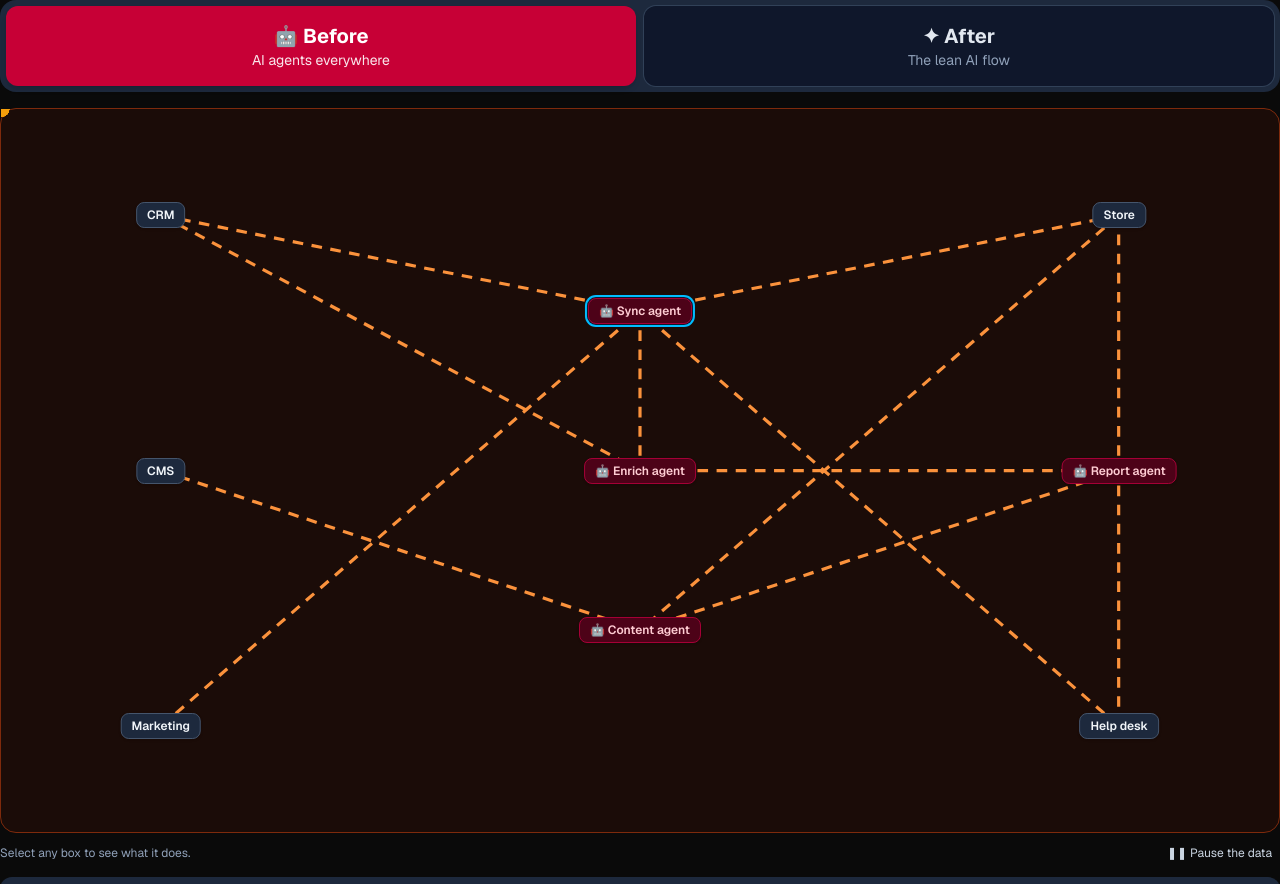
Scenario: AI cost case page › explains any box that's selected
This screenshot has width=1280, height=884.
Click the button "🤖 Report agent": (1119, 471) [1062,458,1177,484]
(page scrolled)
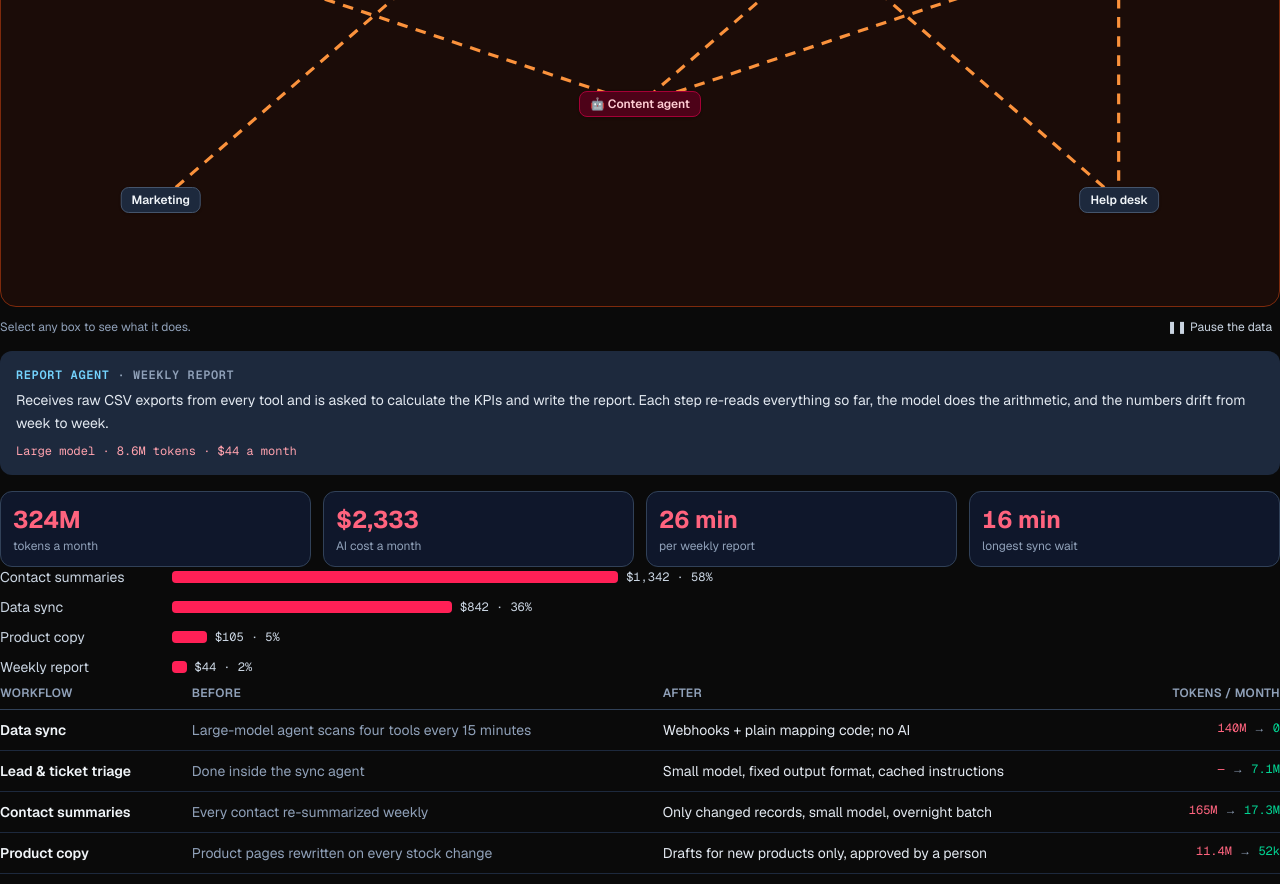
Now the text "the numbers drift from week to week" is shown, box [16,391,1246,432]
Now the text "Large model · 8.6M tokens · $44 a month" is shown, box [16,443,297,459]
